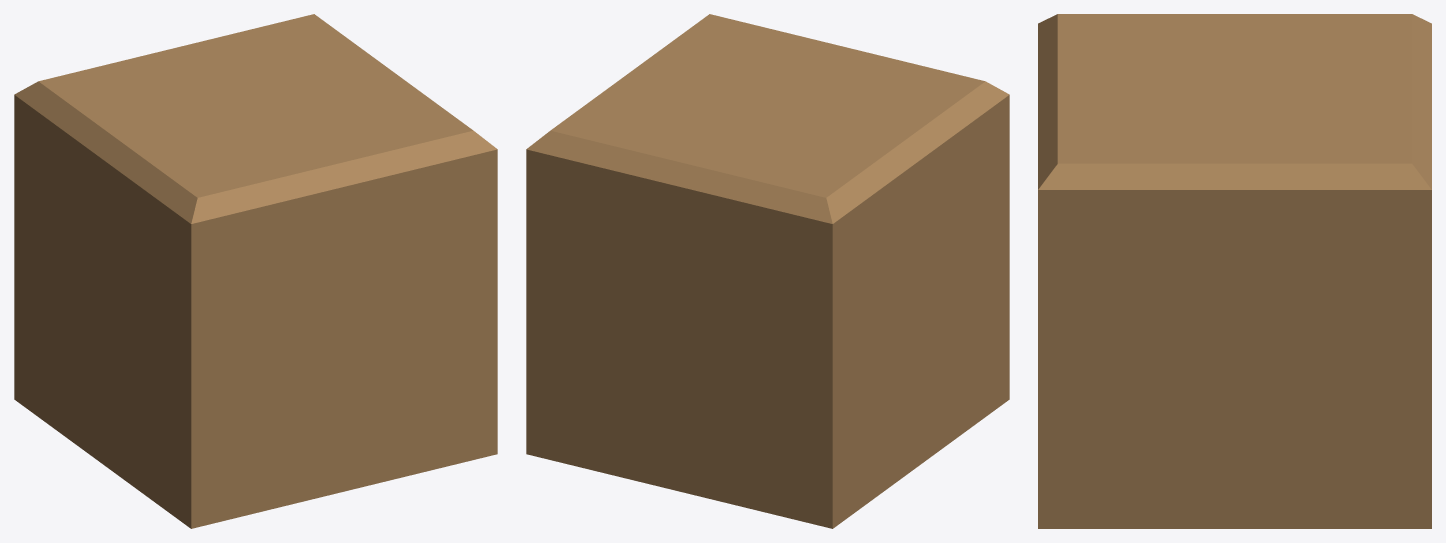
Rendered from wallBase.fbx.
The picture shows the model from 3 angles, left to right: view 1: azimuth 30°, elevation 25°; view 2: azimuth 150°, elevation 25°; view 3: azimuth 270°, elevation 25°; orthographic projection. The views are drawn at different scales.
Visible parts, largest first — view 1: wallBase; view 2: wallBase; view 3: wallBase.
Part boxes in pixels (x1,y1,x2,y2): wallBase: [14, 14, 497, 528]; wallBase: [526, 14, 1009, 528]; wallBase: [1038, 14, 1431, 528].
Size of the model in its own units: 100 by 100 by 100.
